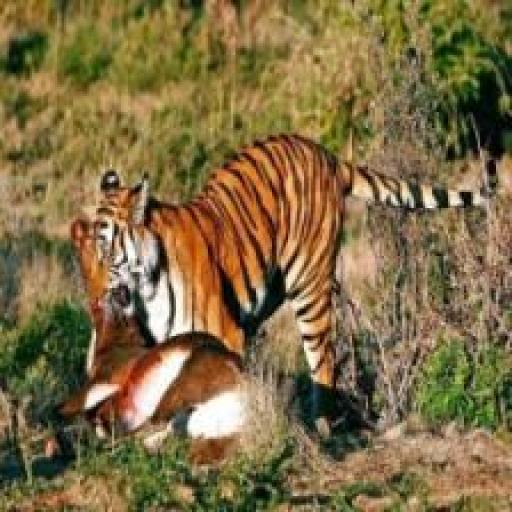Tiger: (89, 123, 489, 447)
